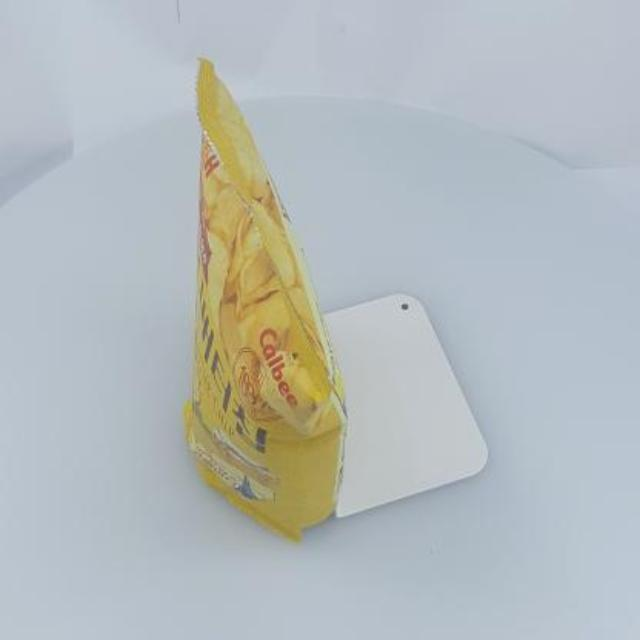snack_bag: (152, 47, 374, 550)
